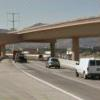Bridge: (7, 12, 100, 53)
